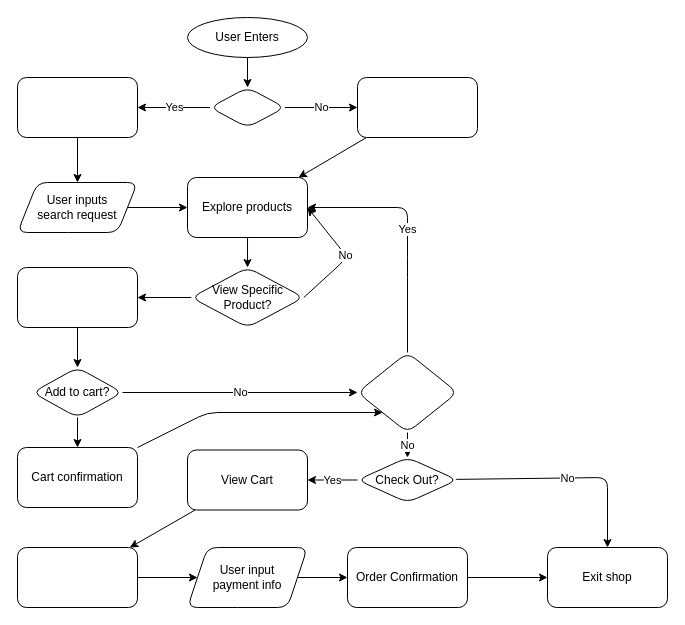
The diagram is 685 pixels wide and 625 high, and some of its shapes have lost their labels. Each missing label, with the box of its shape:
Browsing Page: (356, 76, 478, 138)
Continue Browsing?: (356, 352, 458, 432)
Payment Screen: (16, 546, 138, 608)
Search bar: (16, 76, 138, 138)
Search?: (209, 86, 285, 128)
Show product page: (16, 266, 138, 328)
